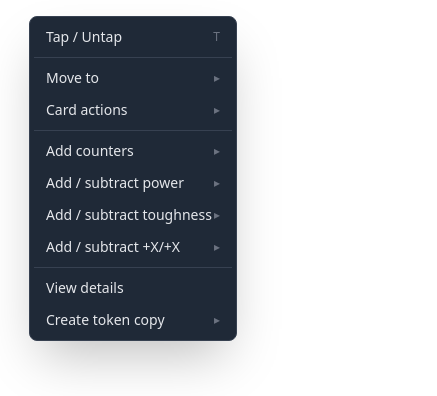
Test: Preservation: "Move to" Destinations for Battlefield Cards (Req 3.6) › "Move to" submenu for battlefield renders exactly: Hand, Graveyard, Exile, Command Zone, Top of Library, Bottom of Library, Shuffle into Library
Note: Open the "Move to" submenu
Hover over the text "Move to" at (133,78), box left=34, top=62, right=232, bottom=94
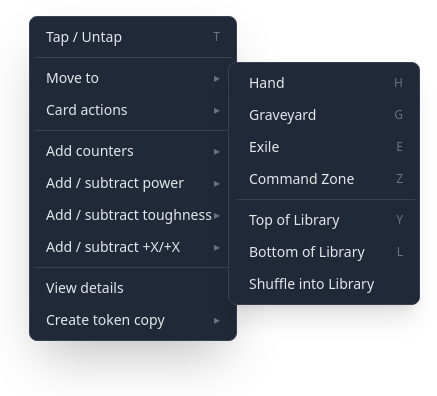
Expected: the text "Hand" is shown, left=249, top=73, right=284, bottom=93
Expected: the text "Graveyard" is shown, left=249, top=105, right=316, bottom=125
Expected: the text "Exile" is shown, left=249, top=137, right=279, bottom=157
